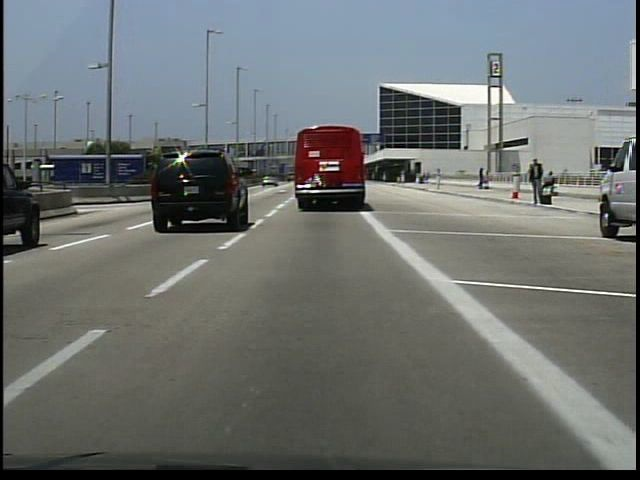person: (525, 154, 549, 211), (538, 167, 561, 199)
